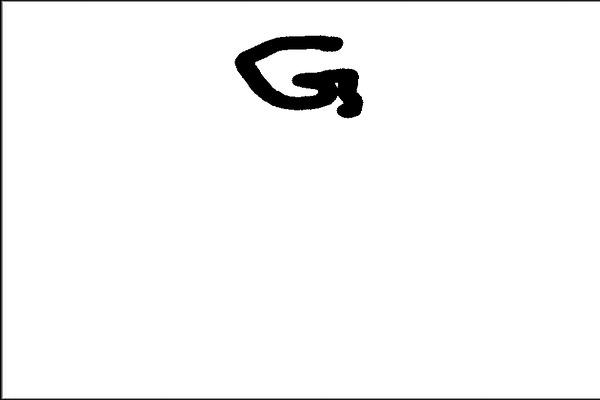G: (230, 31, 367, 122)
